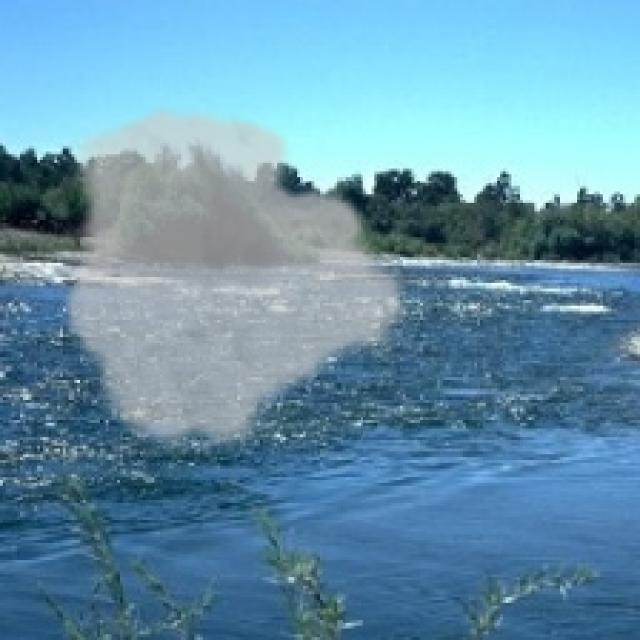smoke: (60, 103, 417, 457)
